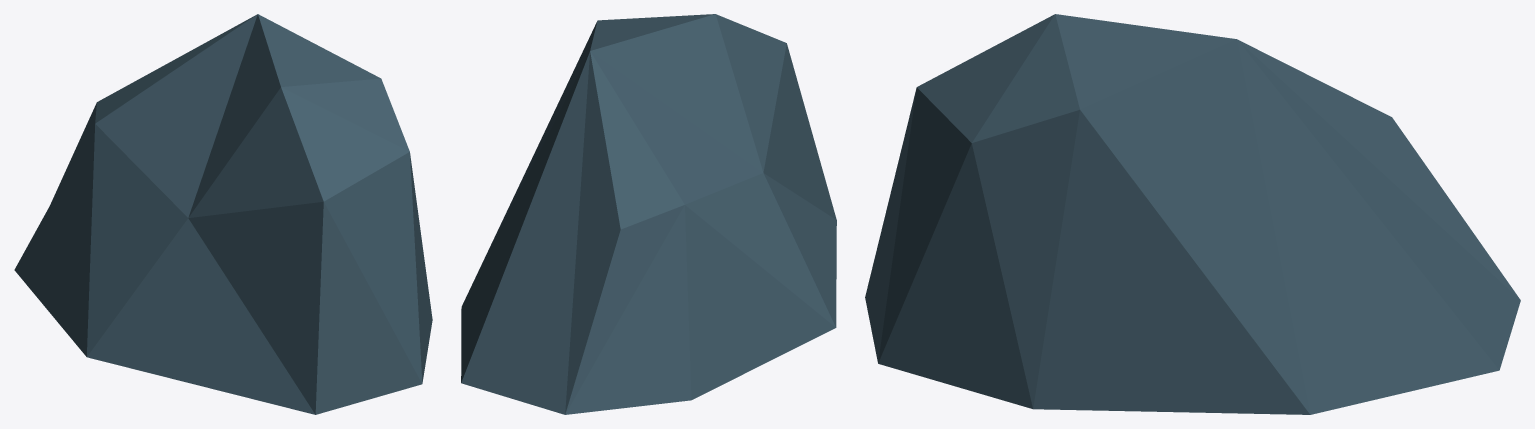
Rendered from rock big 2.fbx.
3 views of the same model, side by side, from view 1: azimuth 30°, elevation 25°; view 2: azimuth 150°, elevation 25°; view 3: azimuth 270°, elevation 25° (orthographic). The views are drawn at different scales.
Visible parts, largest first — view 1: rock big 2; view 2: rock big 2; view 3: rock big 2.
Boxes of the visible parts, x1,y1,x2,y2 form: rock big 2: (14,14,432,414); rock big 2: (461,14,836,414); rock big 2: (865,14,1520,414).
Bounding box in the file's own units: 154 × 125 × 234.
